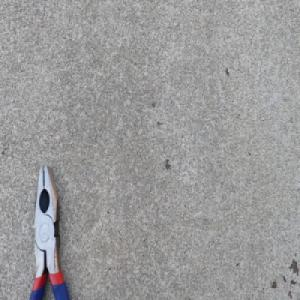Pliers: (27, 161, 70, 300)
